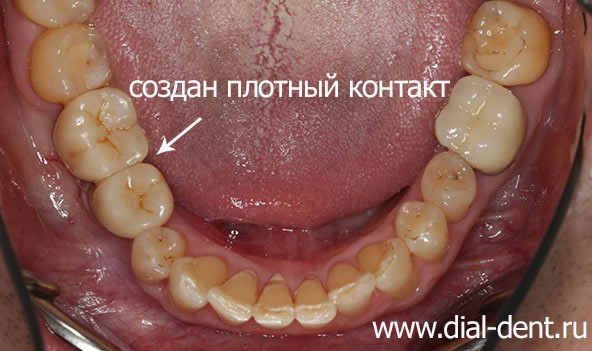LL1BC_decay: (396, 200, 448, 258)
LL1M_healthy: (451, 77, 521, 167)
LL2BC_decay: (424, 152, 476, 213)
LL2M_decay: (466, 4, 548, 80)
LLCI_healthy: (296, 281, 335, 325)
LLC_decay: (366, 240, 412, 290)
LLLI_healthy: (328, 265, 372, 311)
LR1BC_decay: (134, 230, 181, 279)
LR1M_decay: (64, 101, 143, 171)
LR2BC_decay: (100, 169, 171, 233)
LR2M_healthy: (33, 26, 109, 99)
LRCI_healthy: (255, 284, 295, 326)
LRC_healthy: (172, 256, 223, 308)
LRLI_healthy: (212, 271, 254, 322)
